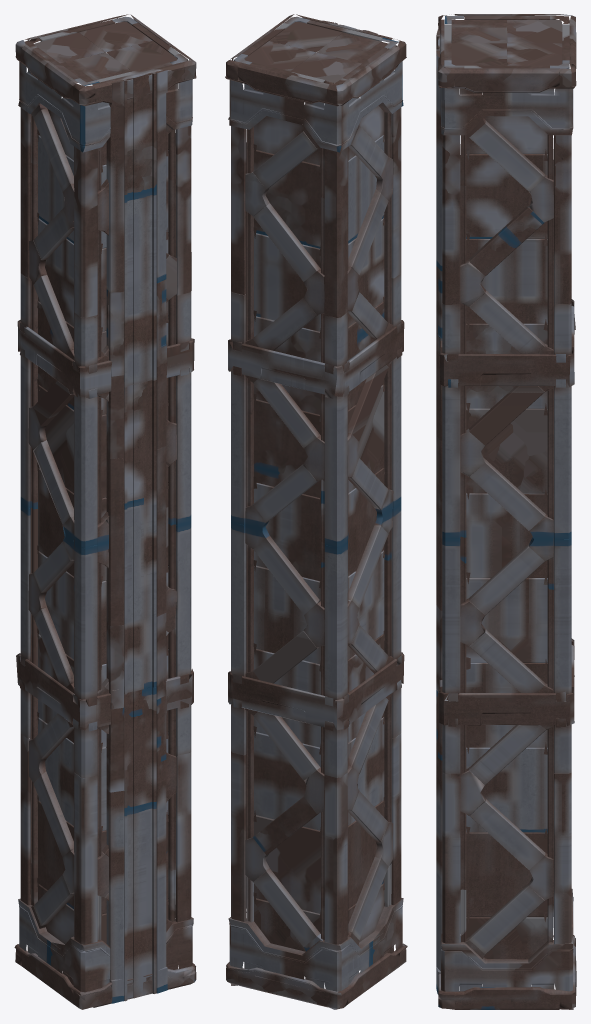
File: GateFrame_Large_Metal_C.glb
The picture shows the model from 3 angles, left to right: view 1: azimuth 30°, elevation 25°; view 2: azimuth 150°, elevation 25°; view 3: azimuth 270°, elevation 25°; orthographic projection.
Visible parts, largest first — view 1: SM_Metal_GatewayLarge; view 2: SM_Metal_GatewayLarge; view 3: SM_Metal_GatewayLarge.
Part boxes in pixels (bbox=[...]): SM_Metal_GatewayLarge: bbox=[14, 14, 196, 1009]; SM_Metal_GatewayLarge: bbox=[225, 14, 407, 1009]; SM_Metal_GatewayLarge: bbox=[436, 14, 576, 1009].
Bounding box in the file's own units: 3.26 × 24.12 × 3.26.
Materials: 1 (1 with a texture image).
